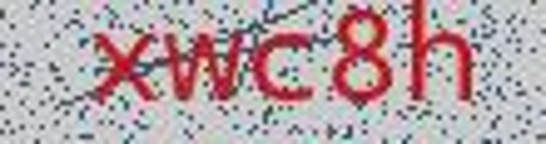8: (330, 1, 397, 120)
c: (248, 23, 326, 112)
h: (401, 1, 488, 119)
w: (158, 20, 246, 115)
x: (85, 27, 162, 112)
